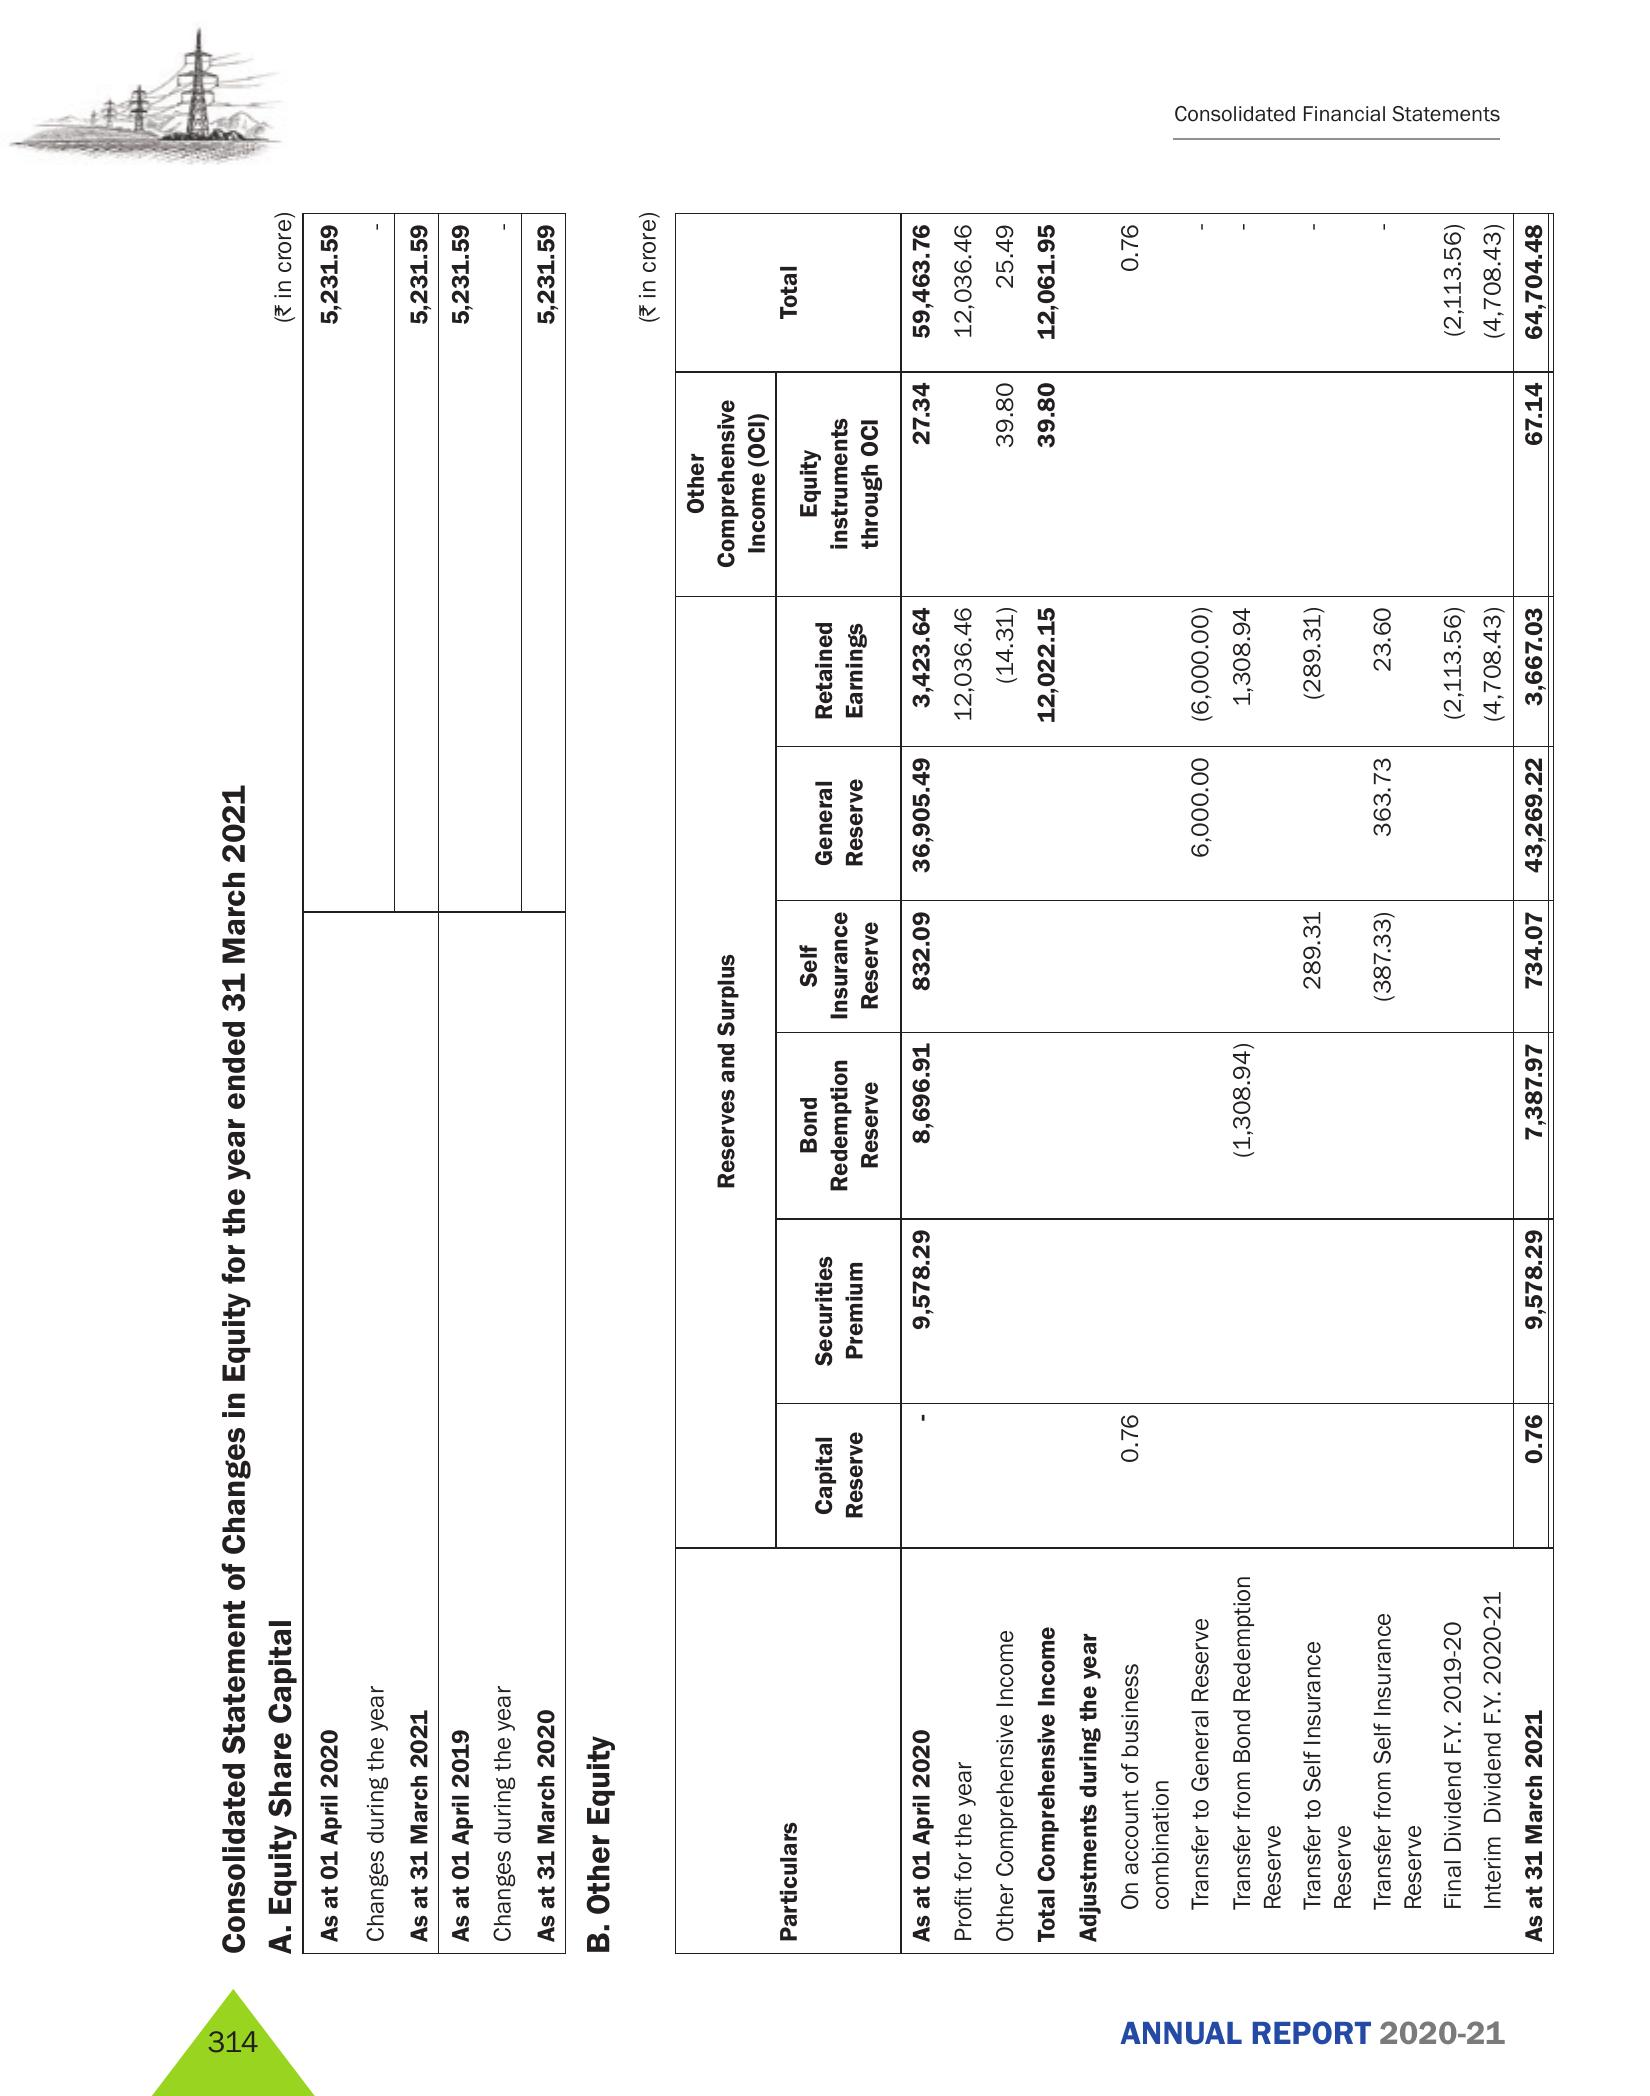Footer: (0, 1965, 1650, 2096)
Header: (0, 0, 1650, 180)
Table: (624, 204, 1551, 1962), (306, 196, 568, 1962)
